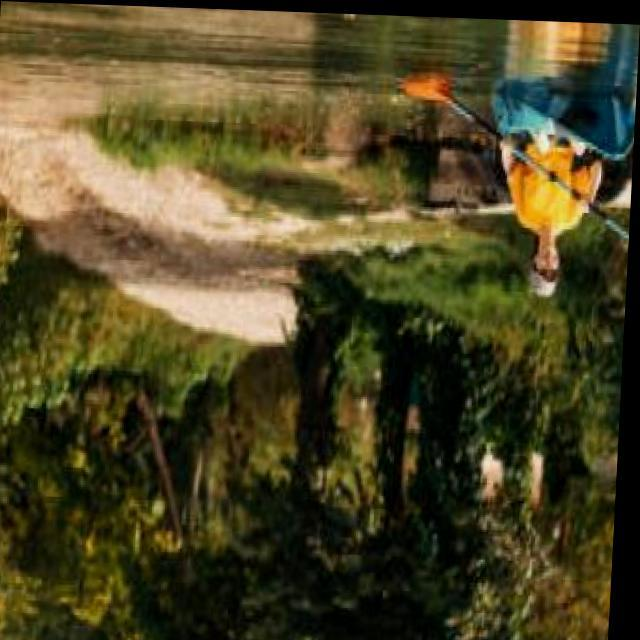kayak: (488, 87, 636, 155)
